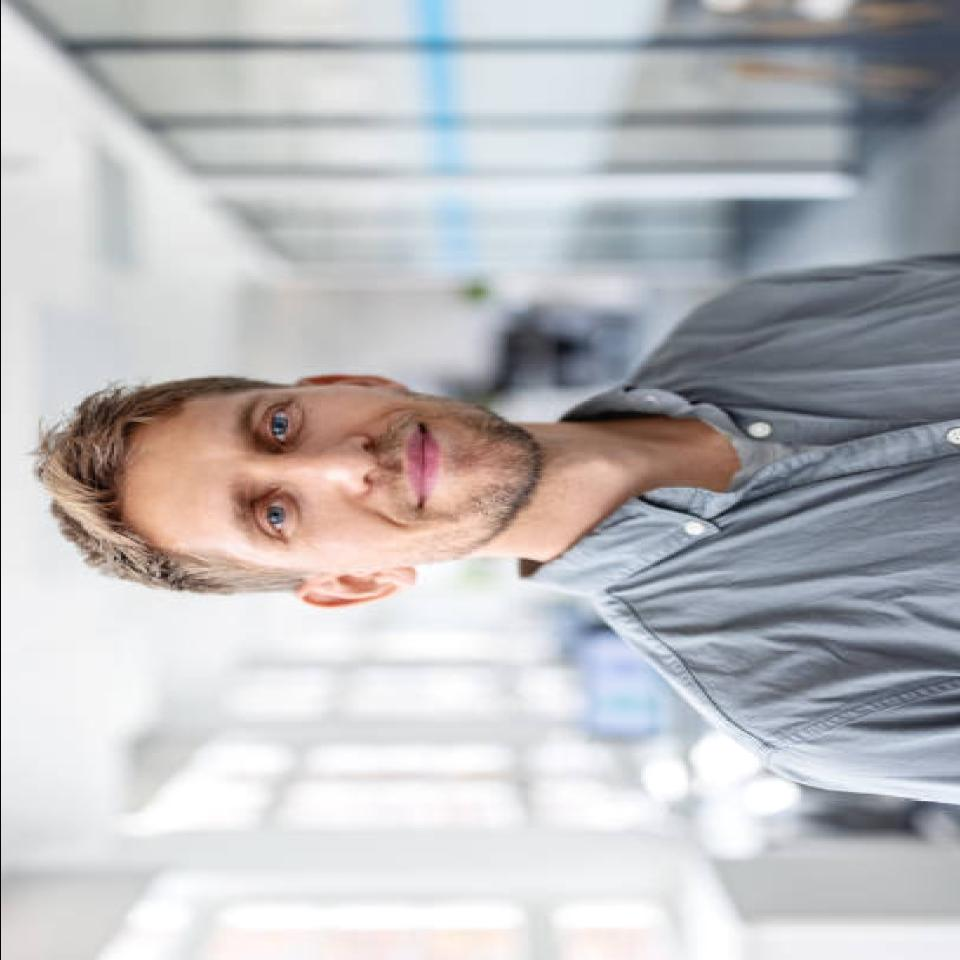Happiness: (206, 392, 504, 546)
